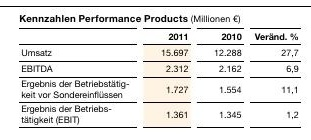table: (0, 0, 311, 140)
